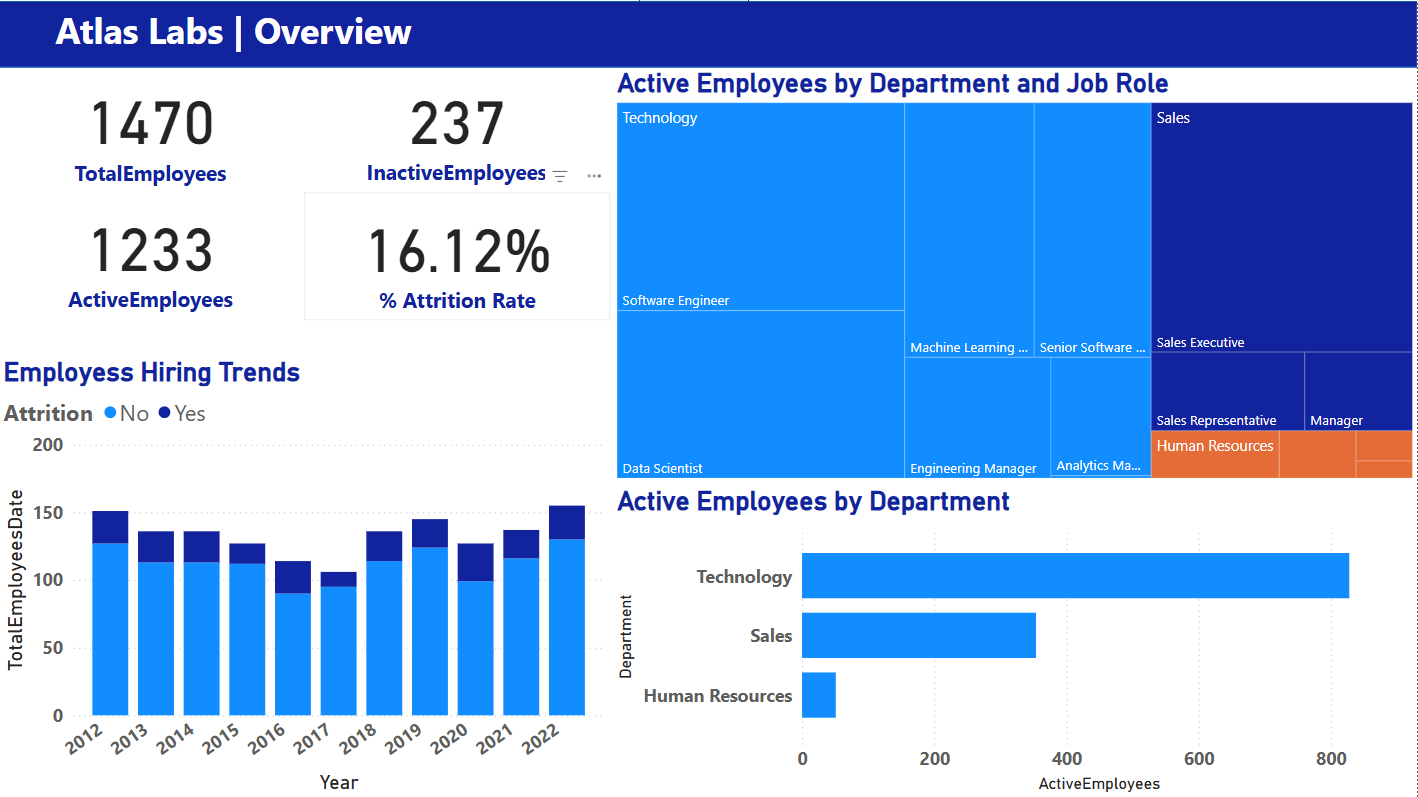

Layout of this report page (visuals, bound fields, positions):
{"tool":"powerbi","page":{"name":"Overview","canvas":[1280,720],"ordinal":0},"visuals":[{"type":"card","fields":{"Values":["_Measures.TotalEmployees"]},"box":[0,60,275,112.5],"z":0},{"type":"card","fields":{"Values":["ActiveEmployees.ActiveEmployees"]},"box":[0,171.2,275,117.5],"z":1000},{"type":"card","fields":{"Values":["ActiveEmployees.InactiveEmployees"]},"box":[275,60,277.5,111.2],"z":2000},{"type":"card","fields":{"Values":["ActiveEmployees.% Attrition Rate"]},"box":[276.2,172.5,276.2,116.2],"z":3000},{"type":"columnChart","title":"Employess Hiring Trends","fields":{"Y":["_Measures.TotalEmployeesDate"],"Series":["DimEmployee.Attrition"],"Category":["DimDate.Date.Variation.Date Hierarchy.Year"]},"box":[0,320,551.4,400],"z":4000},{"type":"clusteredBarChart","title":"Active Employees by Department","fields":{"Y":["_Measures.ActiveEmployees"],"Category":["DimEmployee.Department"]},"box":[552.9,435.7,727.1,282.9],"z":5000},{"type":"treemap","title":"Active Employees by Department and Job Role","fields":{"Group":["DimEmployee.Department"],"Values":["_Measures.ActiveEmployees"],"Details":["DimEmployee.JobRole"]},"box":[552.9,60,727.1,375.7],"z":6000},{"type":"shape","box":[0,0,1280,60],"z":7000},{"type":"textbox","box":[0,0,424.3,60],"z":8000}]}

Visuals, with their boxes in screenshot pixels (x1, y1, x2, y2), scaled from the page's 1280x720 canvas onto the 1418x797 screenshot:
card - _Measures.TotalEmployees: l=0, t=66, r=305, b=191
card - ActiveEmployees.ActiveEmployees: l=0, t=190, r=305, b=320
card - ActiveEmployees.InactiveEmployees: l=305, t=66, r=612, b=190
card - ActiveEmployees.% Attrition Rate: l=306, t=191, r=612, b=320
"Employess Hiring Trends" columnChart: l=0, t=354, r=611, b=796
"Active Employees by Department" clusteredBarChart: l=613, t=482, r=1417, b=795
"Active Employees by Department and Job Role" treemap: l=613, t=66, r=1417, b=482
shape: l=0, t=0, r=1417, b=66
textbox: l=0, t=0, r=470, b=66
